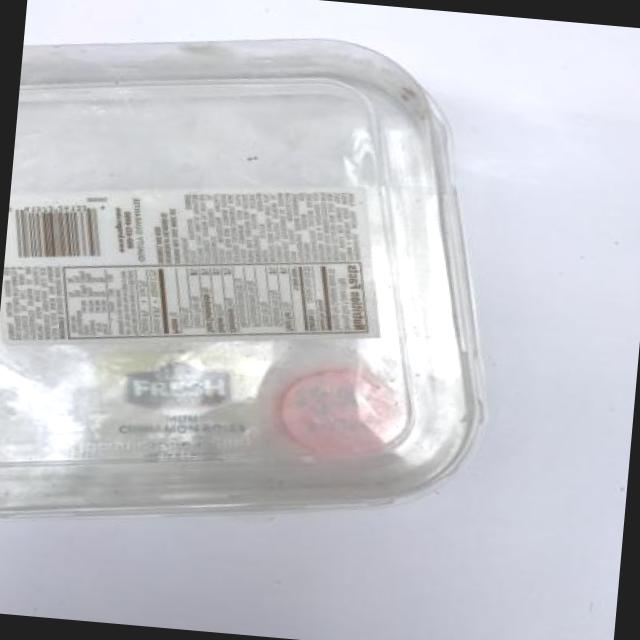plastic: (1, 31, 518, 502)
